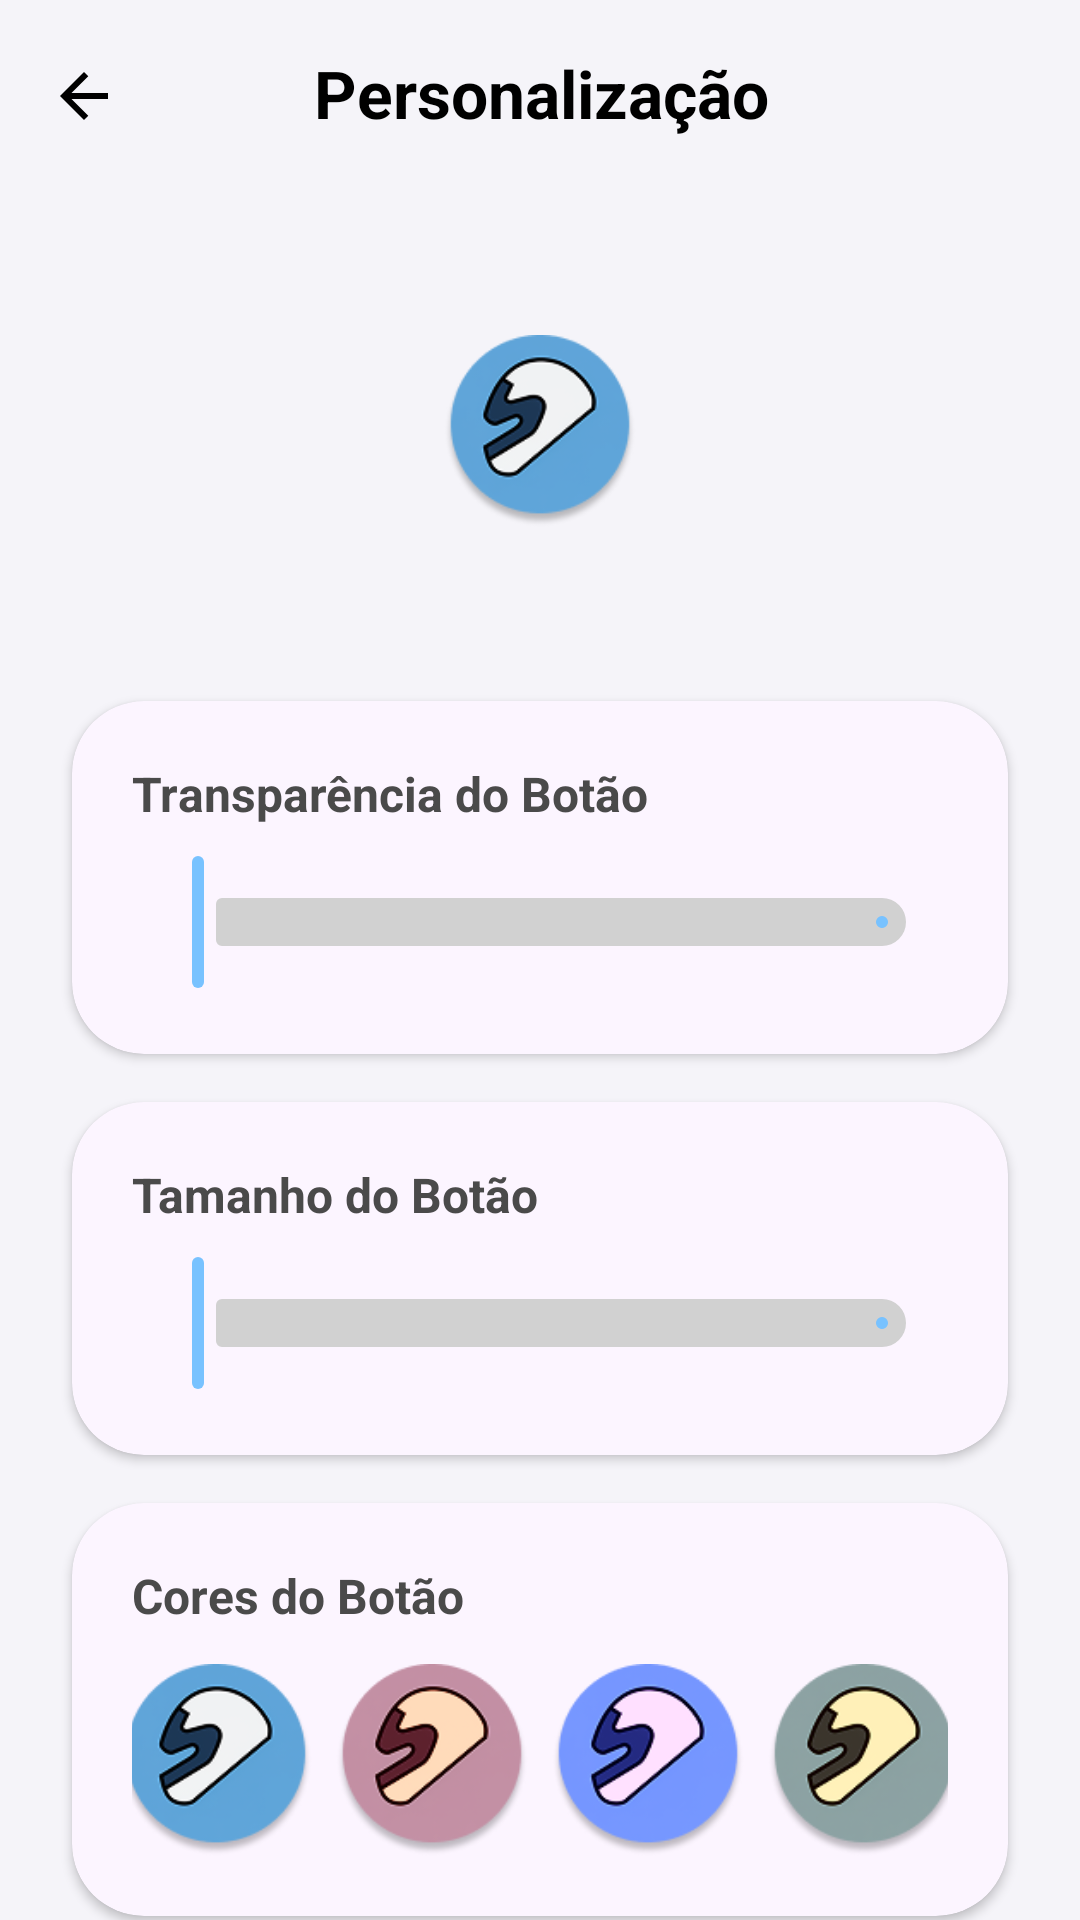

Locate icon controls on the screen. Image size 1080px x 1920px, boxes as (x1, y1, x2, y2).
Preview da personalização: (450, 335, 630, 521)
Voltar: (60, 72, 108, 120)
